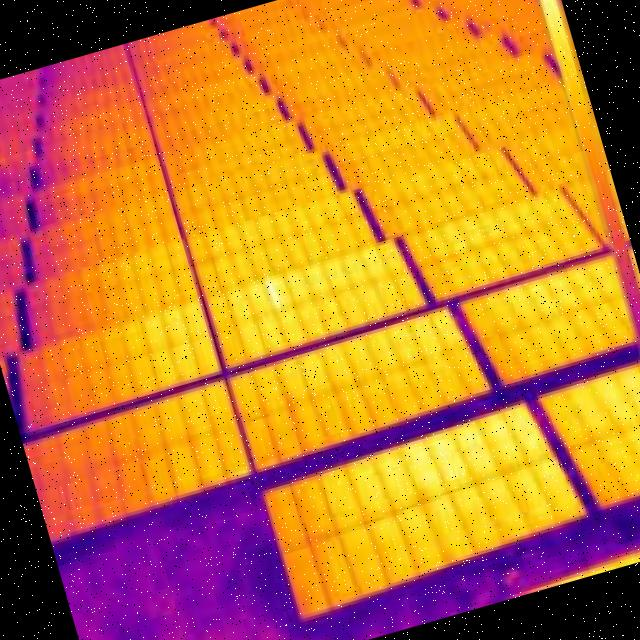Hotspot: (260, 272, 286, 312)
